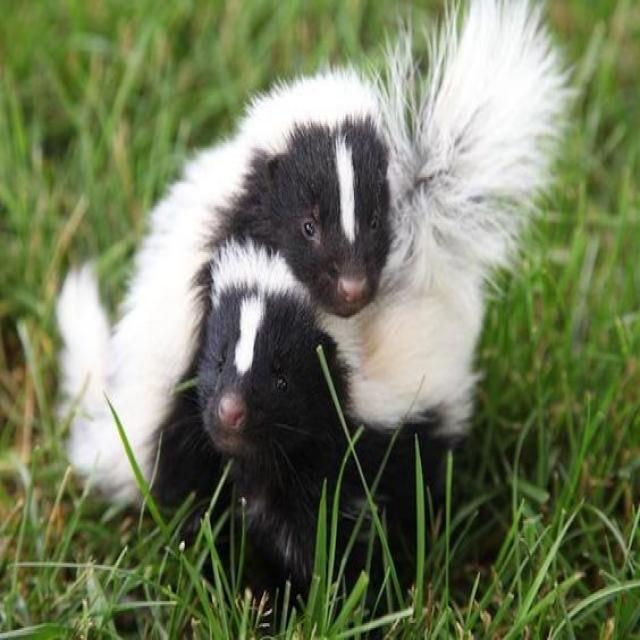Skunk: (189, 217, 477, 564)
